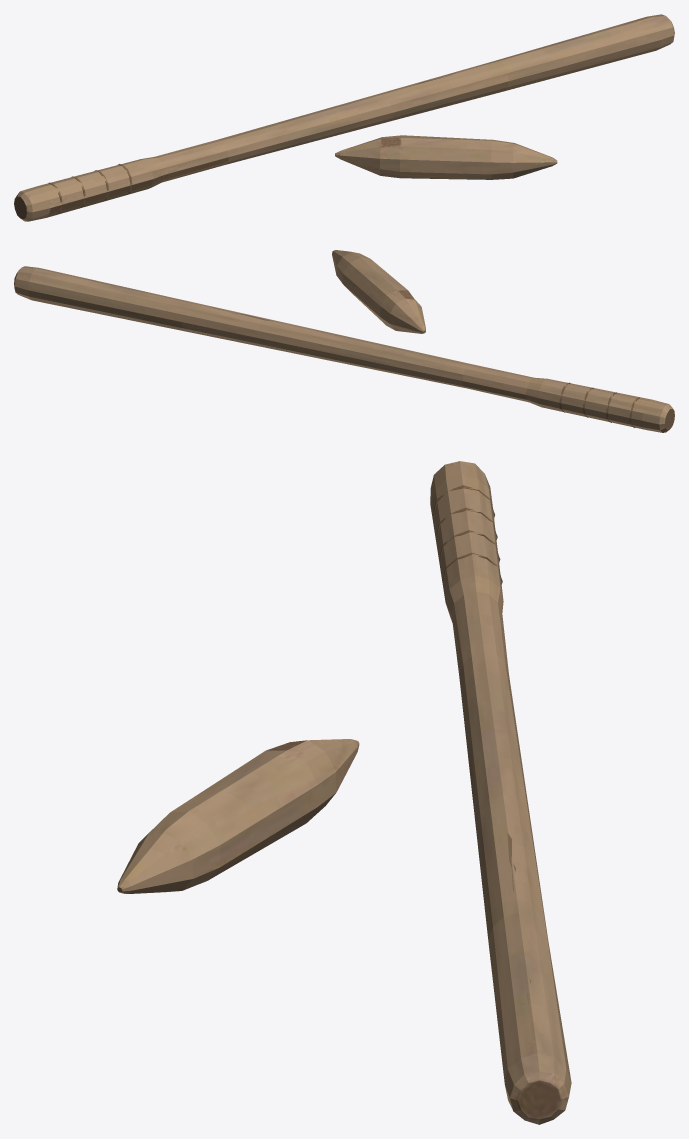
File: SP12_gilli_danda.glb
The picture shows the model from 3 angles, top to bottom: view 1: azimuth 30°, elevation 25°; view 2: azimuth 150°, elevation 25°; view 3: azimuth 270°, elevation 25°; orthographic projection. The views are drawn at different scales.
Visible parts, largest first — view 1: Danda; view 2: Danda; view 3: Danda.
Part boxes in pixels (box(x1,y1,x2,y2)): Danda: box(14, 14, 674, 221); Danda: box(14, 250, 674, 432); Danda: box(117, 461, 571, 1124).
Bounding box in the file's own units: 0.5 × 0.0275 × 0.1556.
Materials: 2 (2 with a texture image).
